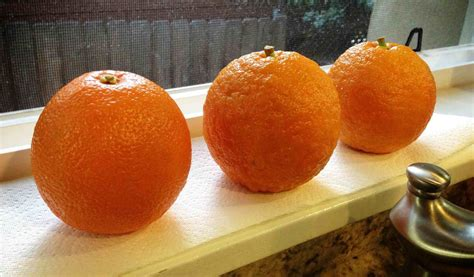orange: (28, 67, 198, 241), (201, 44, 345, 198), (324, 41, 440, 160)
